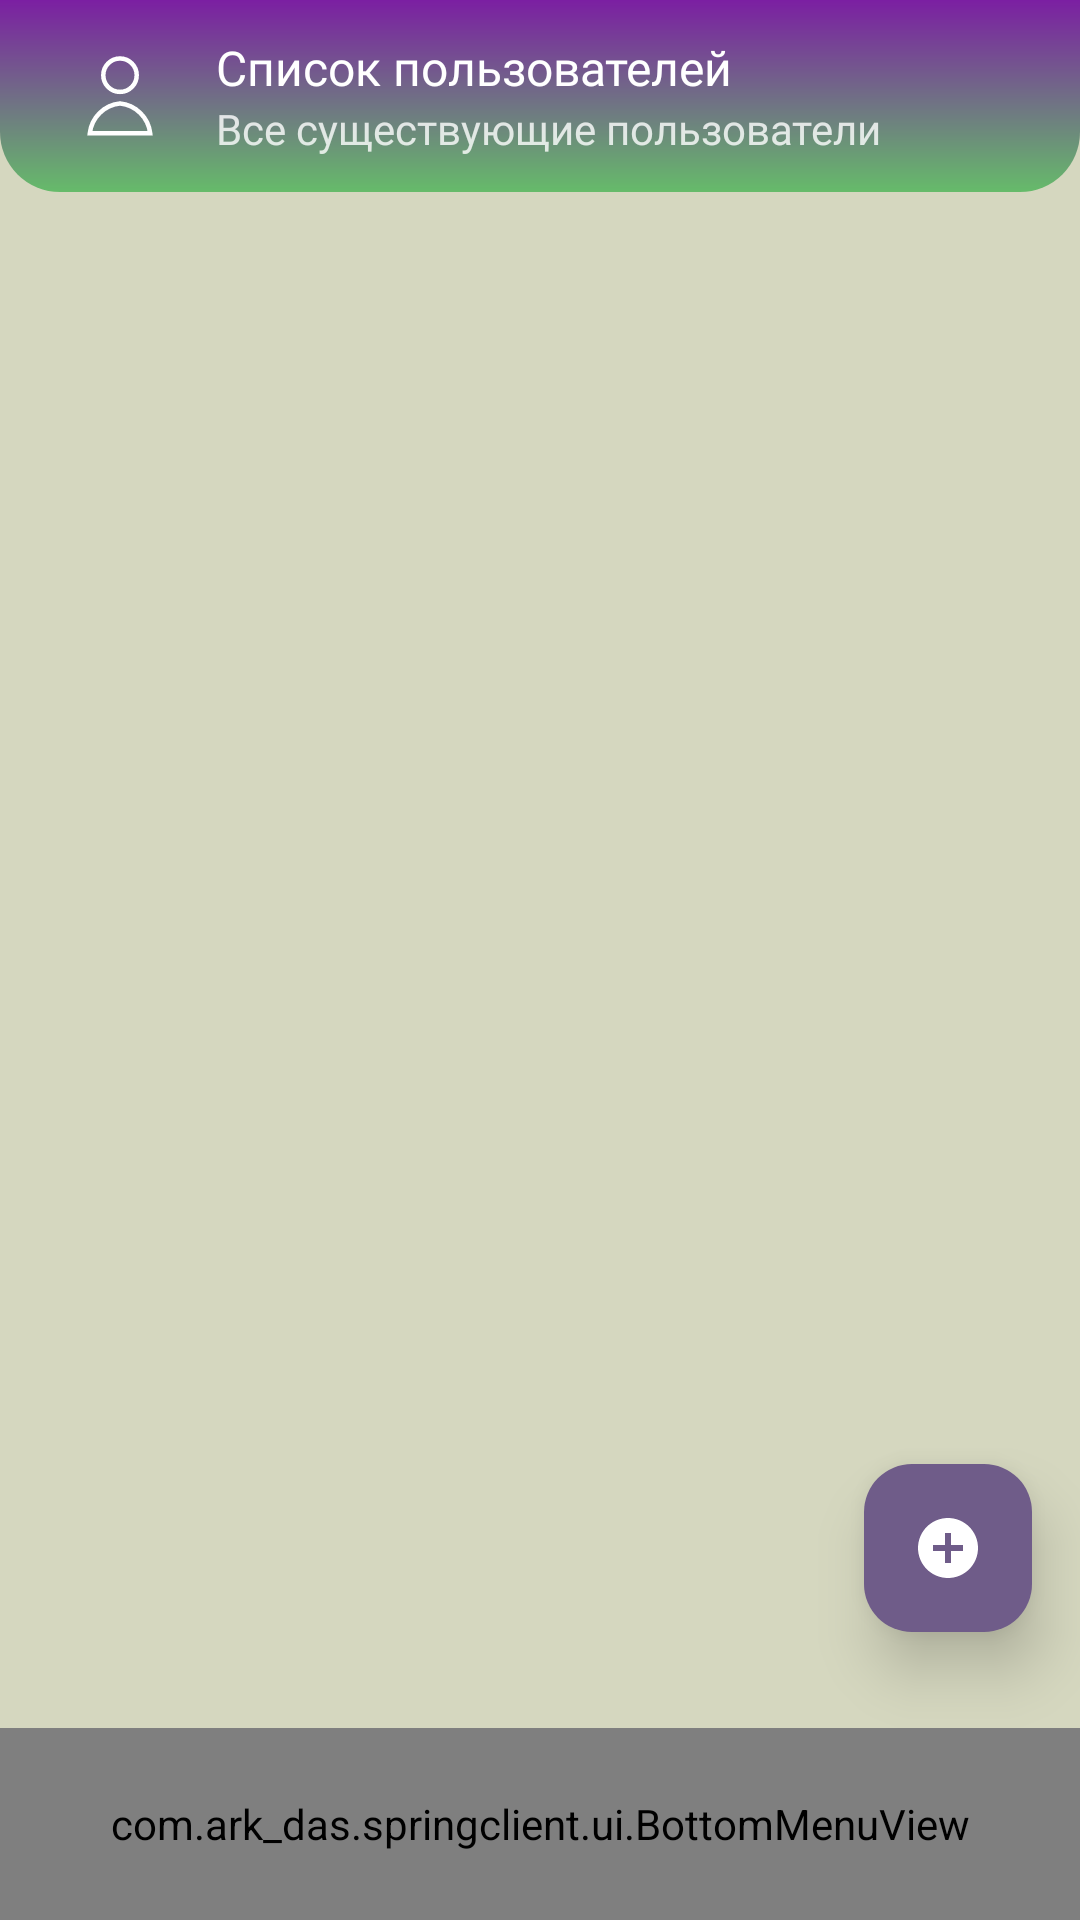

Screen size 1080×1920. Icon name, then its center in pixels as [x,y]:
Аватар: [120,96]
Создать: [948,1548]
